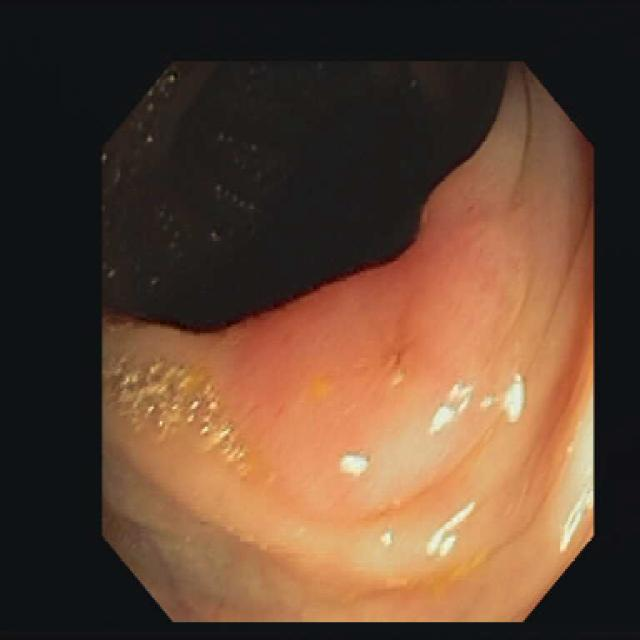tumor: (152, 166, 496, 513)
